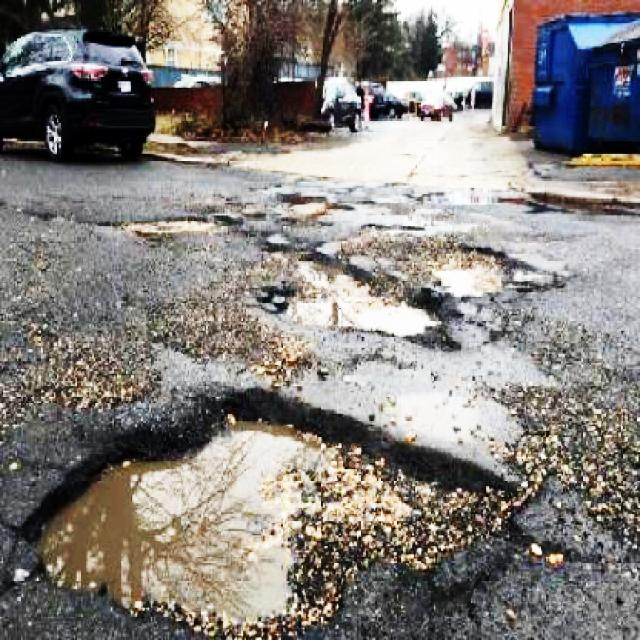pothole: (15, 380, 534, 640), (277, 219, 534, 346), (118, 208, 235, 243), (277, 188, 334, 222)
